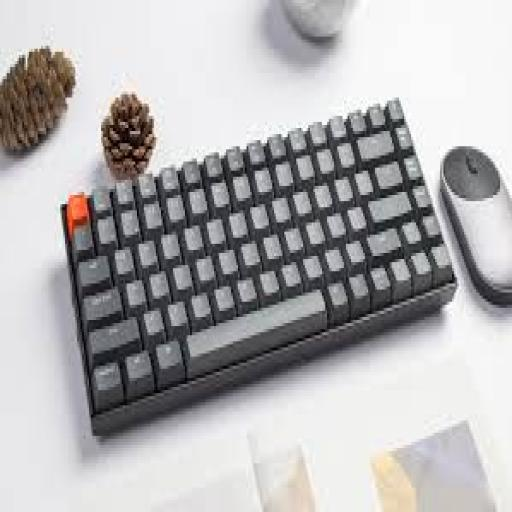keyboard: (59, 94, 456, 427)
